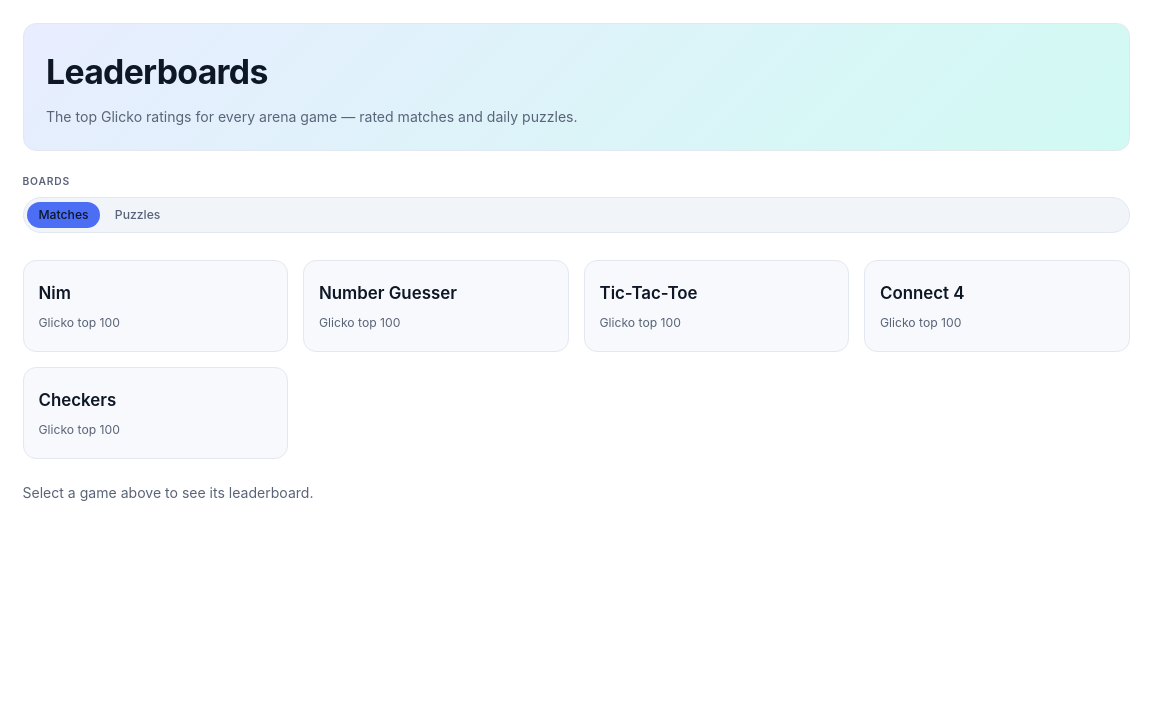
Test: Leaderboards: board scope control › switching to Puzzles shows the overall board plus per-game scopes
What coordinates should you click on to do the following:
click the radio button labelled "Puzzles"
I would click on:
 (138, 215)
Its box is [104,202,172,228].
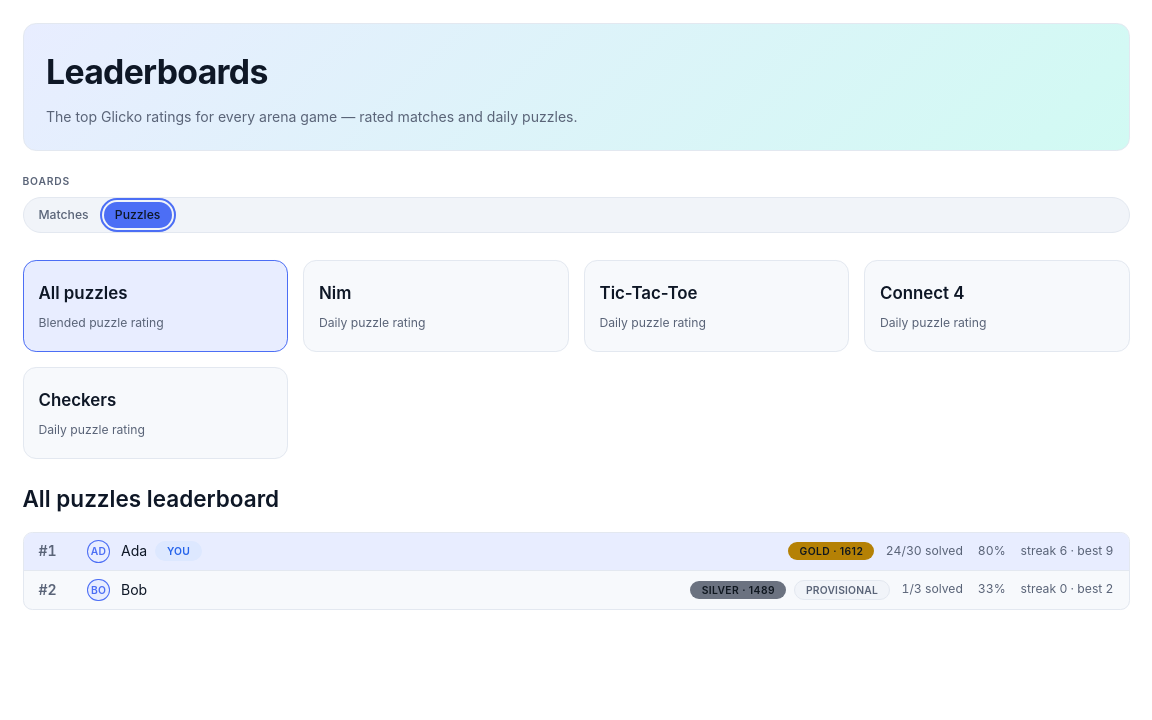
Expected: the list with test id "puzzle-board" is shown, [22,532,1130,610]
Expected: the button with test id "lb-puzzle-tile-overall" is shown, [22,260,288,352]
Expected: the button with test id "lb-puzzle-tile-nim" is shown, [303,260,568,352]
